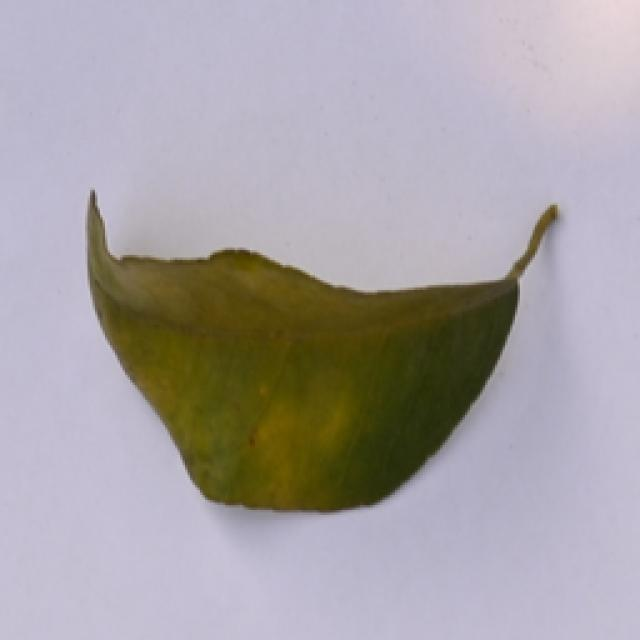greening: (55, 161, 574, 528)
